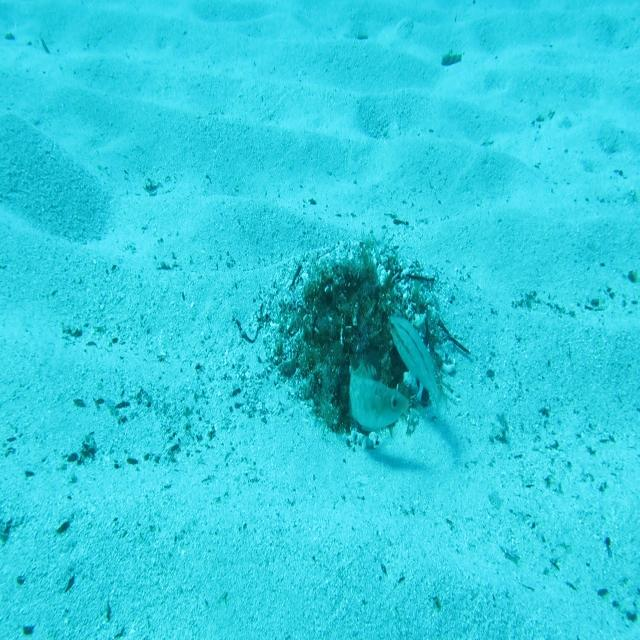DAN_CIRC: (347, 348, 412, 434)
core_nest: (334, 281, 380, 334)
female: (388, 313, 448, 425)
nest: (257, 233, 468, 469)
vegetation: (440, 50, 463, 70)
